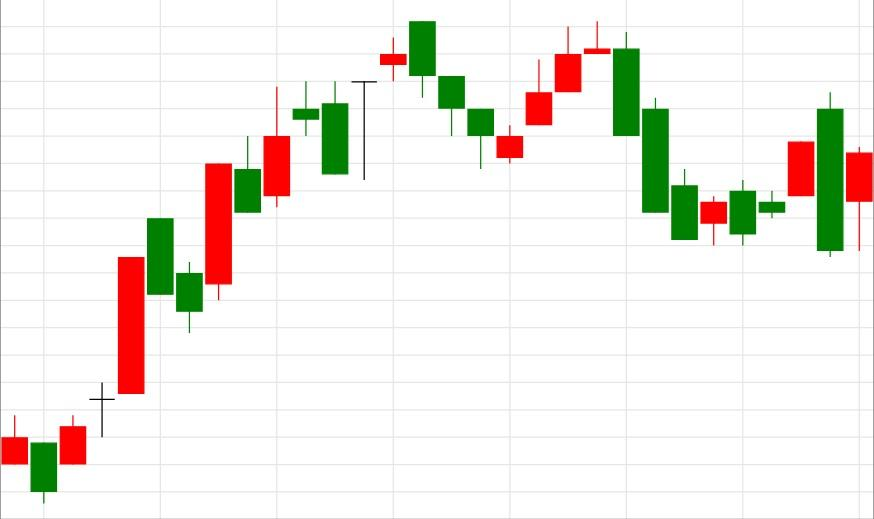bearish_engulfing_fall: (29, 20, 437, 504), (728, 93, 844, 257)
evening_star_fall: (495, 20, 641, 164)
three_black_crows_fall: (29, 21, 495, 503)
three_white_soldiers_rise: (408, 20, 583, 170)
